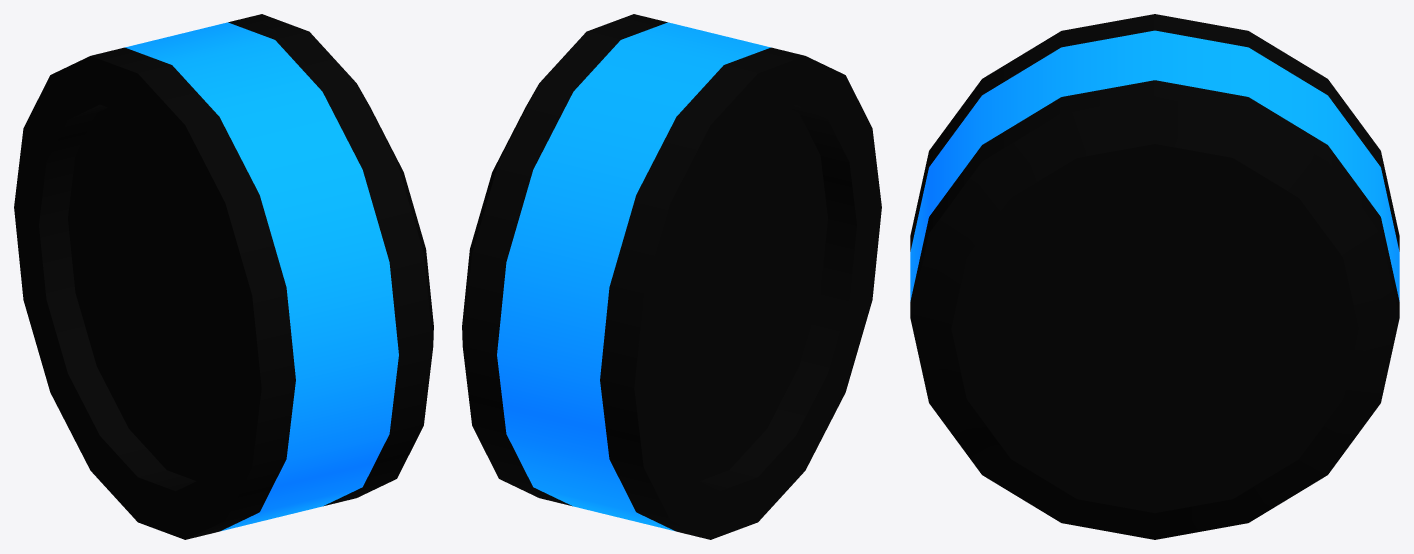
File: NetCamera.fbx
3 renders of one model, left to right at view 1: azimuth 30°, elevation 25°; view 2: azimuth 150°, elevation 25°; view 3: azimuth 270°, elevation 25°, orthographic.
Parts seen in each view (by area): view 1: NetCamera; view 2: NetCamera; view 3: NetCamera.
Part boxes in pixels (<box>): NetCamera: <box>14,14,433,539</box>; NetCamera: <box>462,14,881,539</box>; NetCamera: <box>910,14,1399,539</box>.
Size of the model in its own units: 0.2519 by 0.56 by 0.56.
